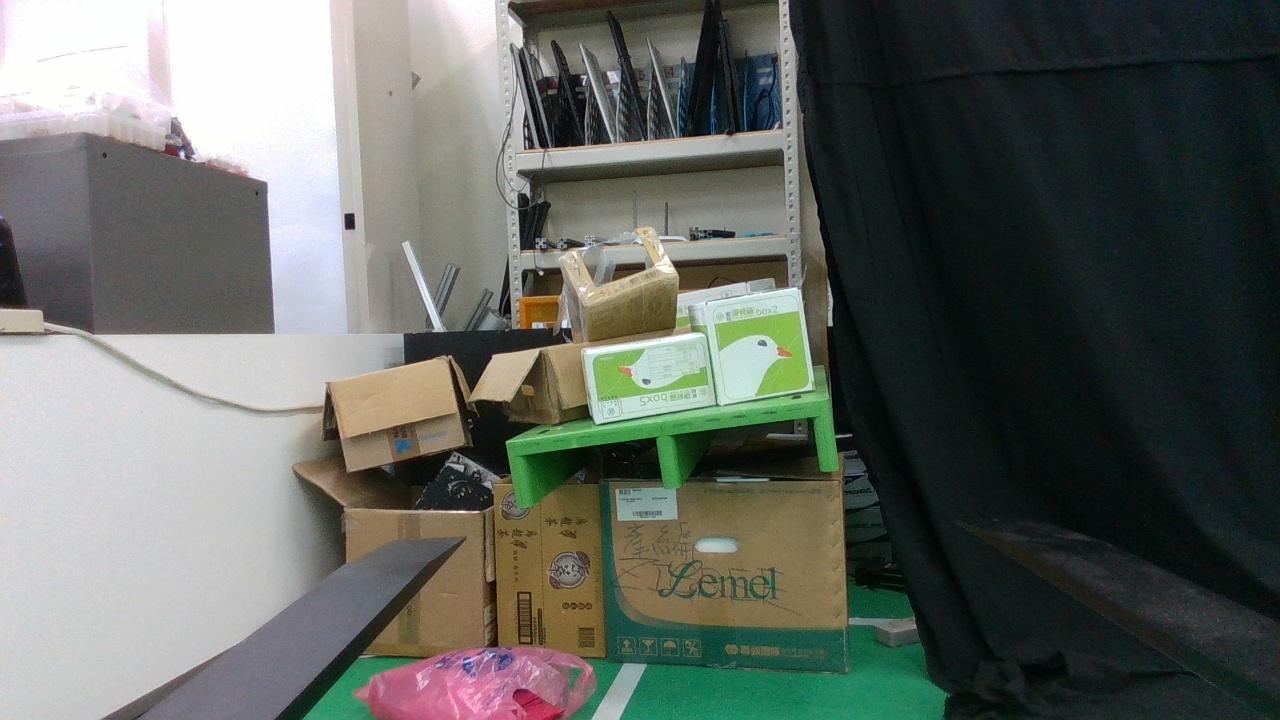Pallet: (508, 398, 840, 512)
